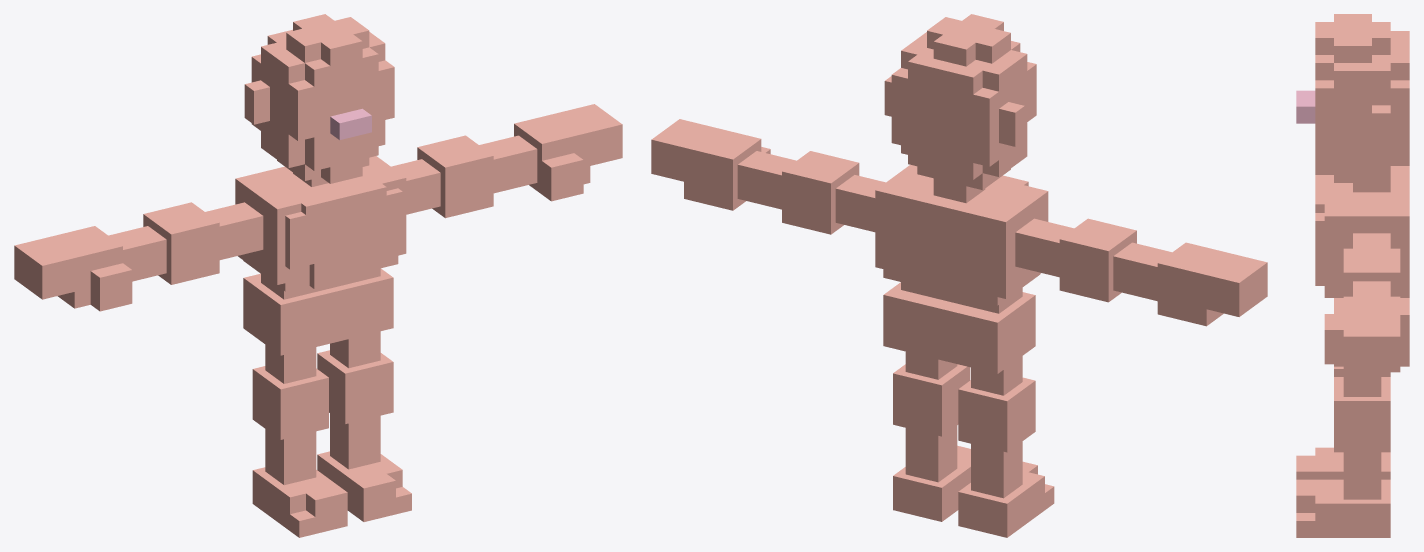
Rendered from NewModel.fbx.
3 views of the same model, side by side, from view 1: azimuth 30°, elevation 25°; view 2: azimuth 150°, elevation 25°; view 3: azimuth 270°, elevation 25° (orthographic).
Visible parts, largest first — view 1: Matrix_19, Box_1, Matrix_10, Matrix_18, Matrix_14, Matrix_part, Matrix_3, Matrix_16, Matrix_12, Matrix_5, Matrix_part_1, Matrix_6 (+9 smaller); view 2: Matrix_19, Box_1, Matrix_10, Matrix_18, Matrix_14, Matrix_3, Matrix_16, Matrix_12, Matrix_5, Matrix_part, Matrix_part_1, Matrix_21 (+10 smaller); view 3: Matrix_19, Box_1, Matrix_14, Matrix_part_1, Matrix_5, Matrix_12, Matrix_21, Matrix_part, Matrix_19_part, Matrix_9, Matrix_10, Matrix_13 (+3 smaller).
Boxes of the visible parts, x1=… form: Matrix_19: x1=251, y1=14, x2=394, y2=183; Box_1: x1=235, y1=156, x2=406, y2=291; Matrix_10: x1=243, y1=268, x2=393, y2=355; Matrix_18: x1=14, y1=226, x2=132, y2=311; Matrix_14: x1=514, y1=104, x2=622, y2=201; Matrix_part: x1=252, y1=467, x2=347, y2=537; Matrix_3: x1=252, y1=366, x2=328, y2=439; Matrix_16: x1=143, y1=202, x2=219, y2=284; Matrix_12: x1=417, y1=135, x2=493, y2=218; Matrix_5: x1=317, y1=350, x2=393, y2=424; Matrix_part_1: x1=317, y1=451, x2=411, y2=521; Matrix_6: x1=265, y1=429, x2=316, y2=485; Matrix_19: x1=891, y1=14, x2=1036, y2=190; Box_1: x1=875, y1=164, x2=1048, y2=305; Matrix_10: x1=883, y1=282, x2=1035, y2=373; Matrix_18: x1=1157, y1=242, x2=1267, y2=326; Matrix_14: x1=651, y1=119, x2=770, y2=210; Matrix_3: x1=958, y1=377, x2=1035, y2=452; Matrix_16: x1=1059, y1=218, x2=1136, y2=302; Matrix_12: x1=782, y1=151, x2=859, y2=234; Matrix_5: x1=893, y1=364, x2=970, y2=436; Matrix_part: x1=958, y1=461, x2=1054, y2=537; Matrix_part_1: x1=893, y1=445, x2=970, y2=521; Matrix_21: x1=905, y1=425, x2=957, y2=482; Matrix_19: x1=1315, y1=14, x2=1409, y2=182; Box_1: x1=1315, y1=166, x2=1409, y2=297; Matrix_14: x1=1324, y1=296, x2=1400, y2=372; Matrix_part_1: x1=1296, y1=479, x2=1390, y2=537; Matrix_5: x1=1334, y1=377, x2=1390, y2=452; Matrix_12: x1=1343, y1=248, x2=1400, y2=296; Matrix_21: x1=1343, y1=452, x2=1381, y2=499; Matrix_part: x1=1296, y1=447, x2=1390, y2=479; Matrix_19_part: x1=1296, y1=90, x2=1390, y2=147; Matrix_9: x1=1343, y1=372, x2=1381, y2=396; Matrix_10: x1=1334, y1=298, x2=1409, y2=366; Matrix_13: x1=1353, y1=281, x2=1390, y2=296.
Size of the model in its own units: 72 by 56 by 12.
Materials: 1 (1 with a texture image).
